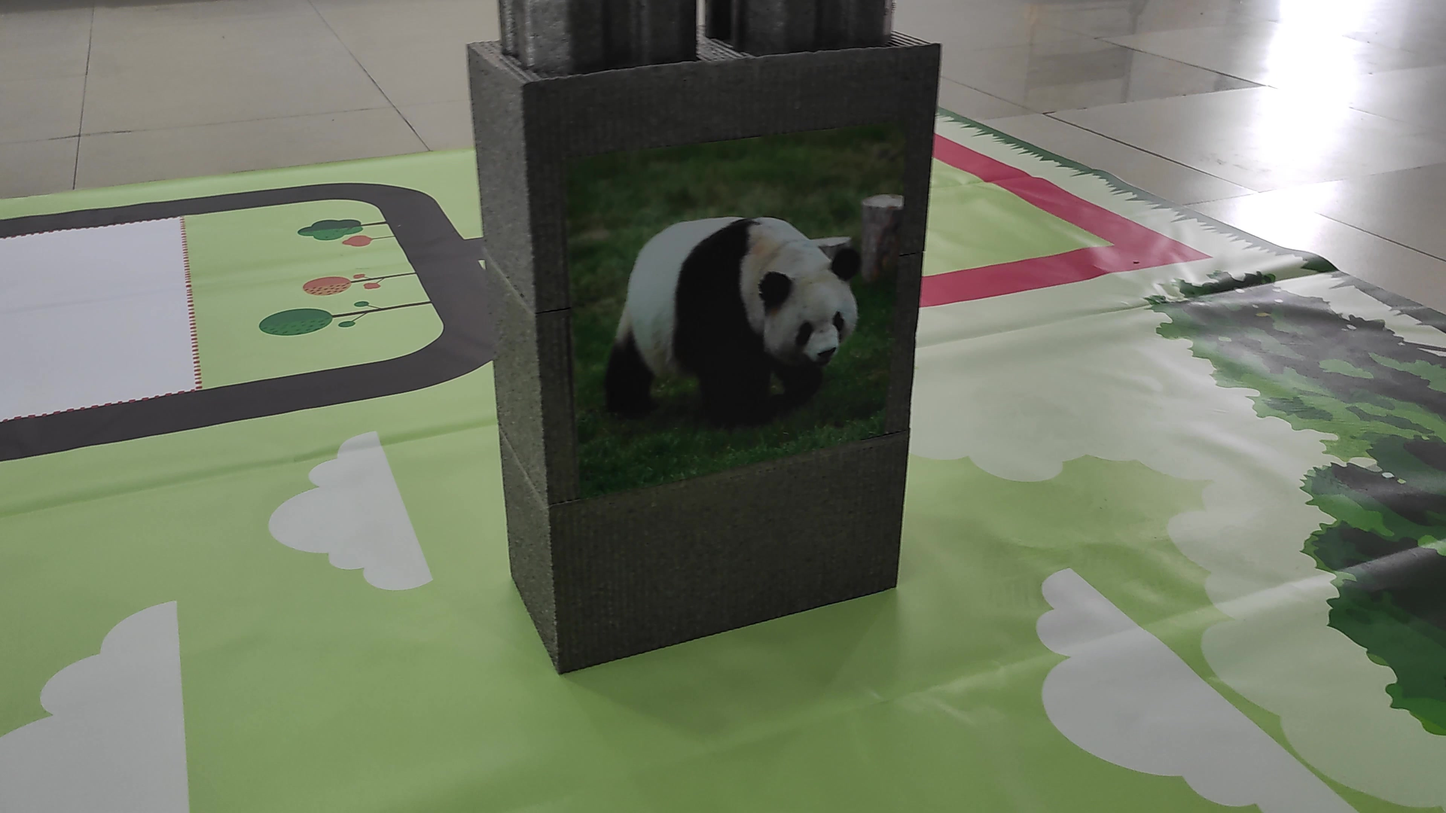panda: (586, 193, 906, 441)
